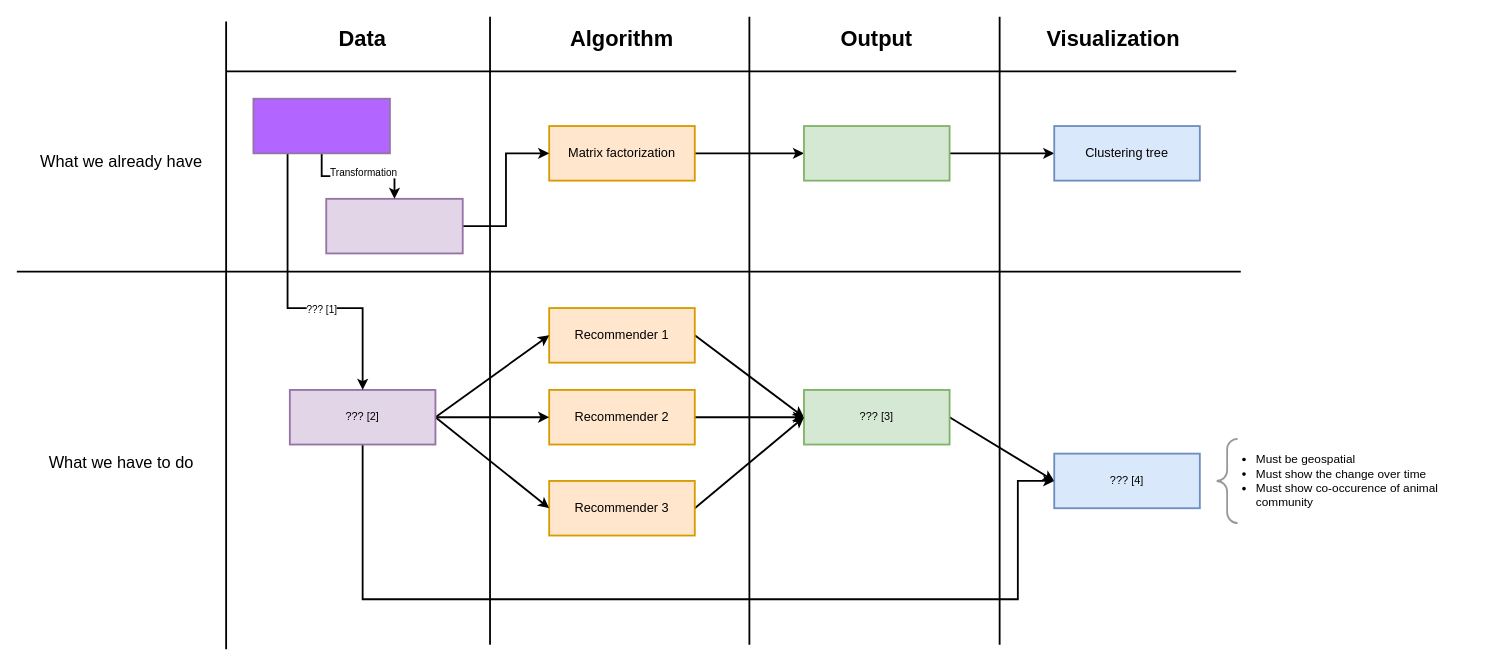
Some shapes in this 1488 by 666 pixel diagram are drawn without their labels. Here are the shapes that lost their labels. From the top down, the box of each, then its label:
(252, 97, 390, 154): NOW
(803, 125, 950, 181): Genus embedding matrix
(325, 197, 463, 254): Co-occurence matrix
